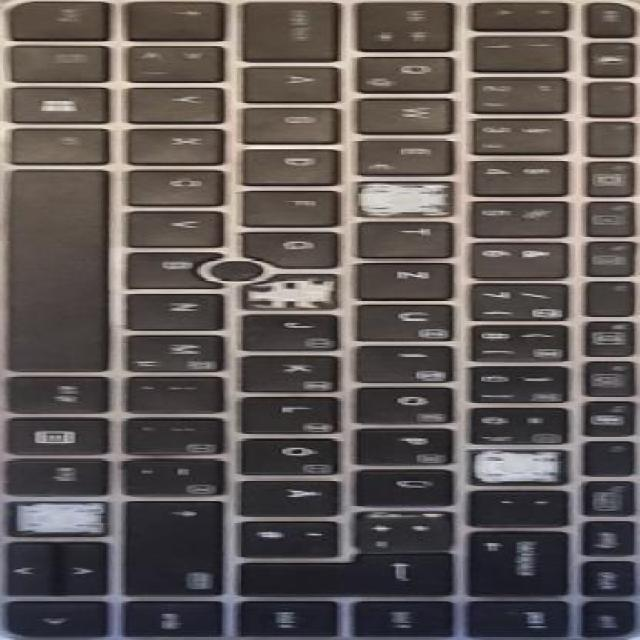Keyboard problems: (6, 502, 108, 535), (472, 451, 566, 483), (245, 275, 335, 308), (358, 185, 449, 215)
